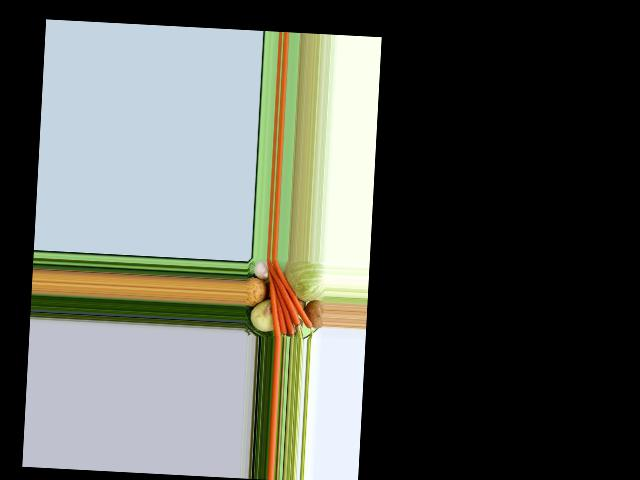carrot: (262, 262, 285, 337)
